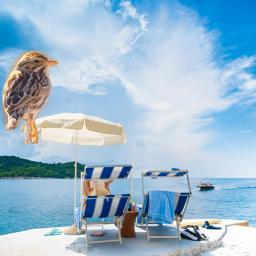Sparrow: (1, 50, 59, 144)
